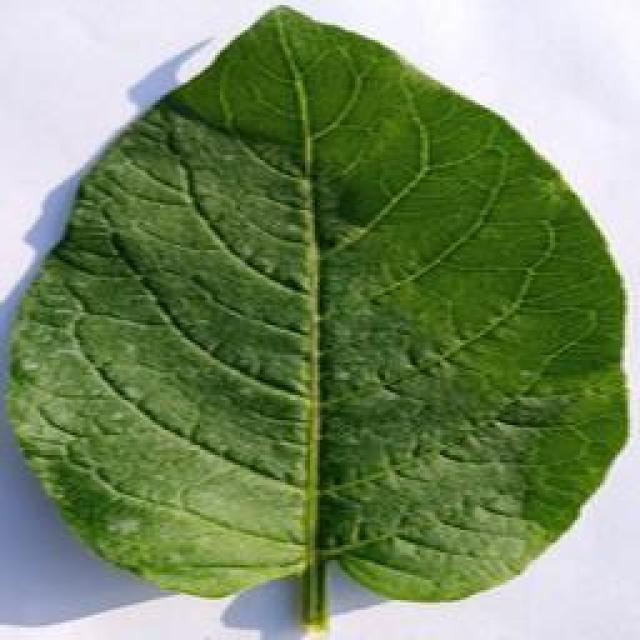Potato_Healthy: (7, 6, 636, 631)
